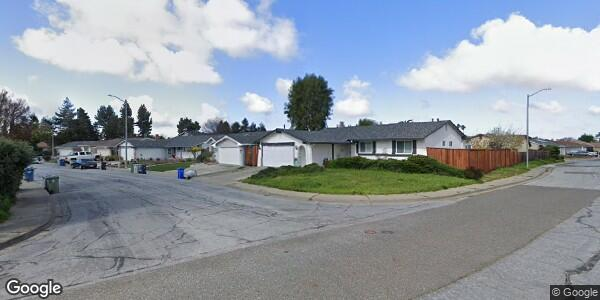Steel_Pole: (523, 84, 556, 169), (103, 91, 133, 170)
